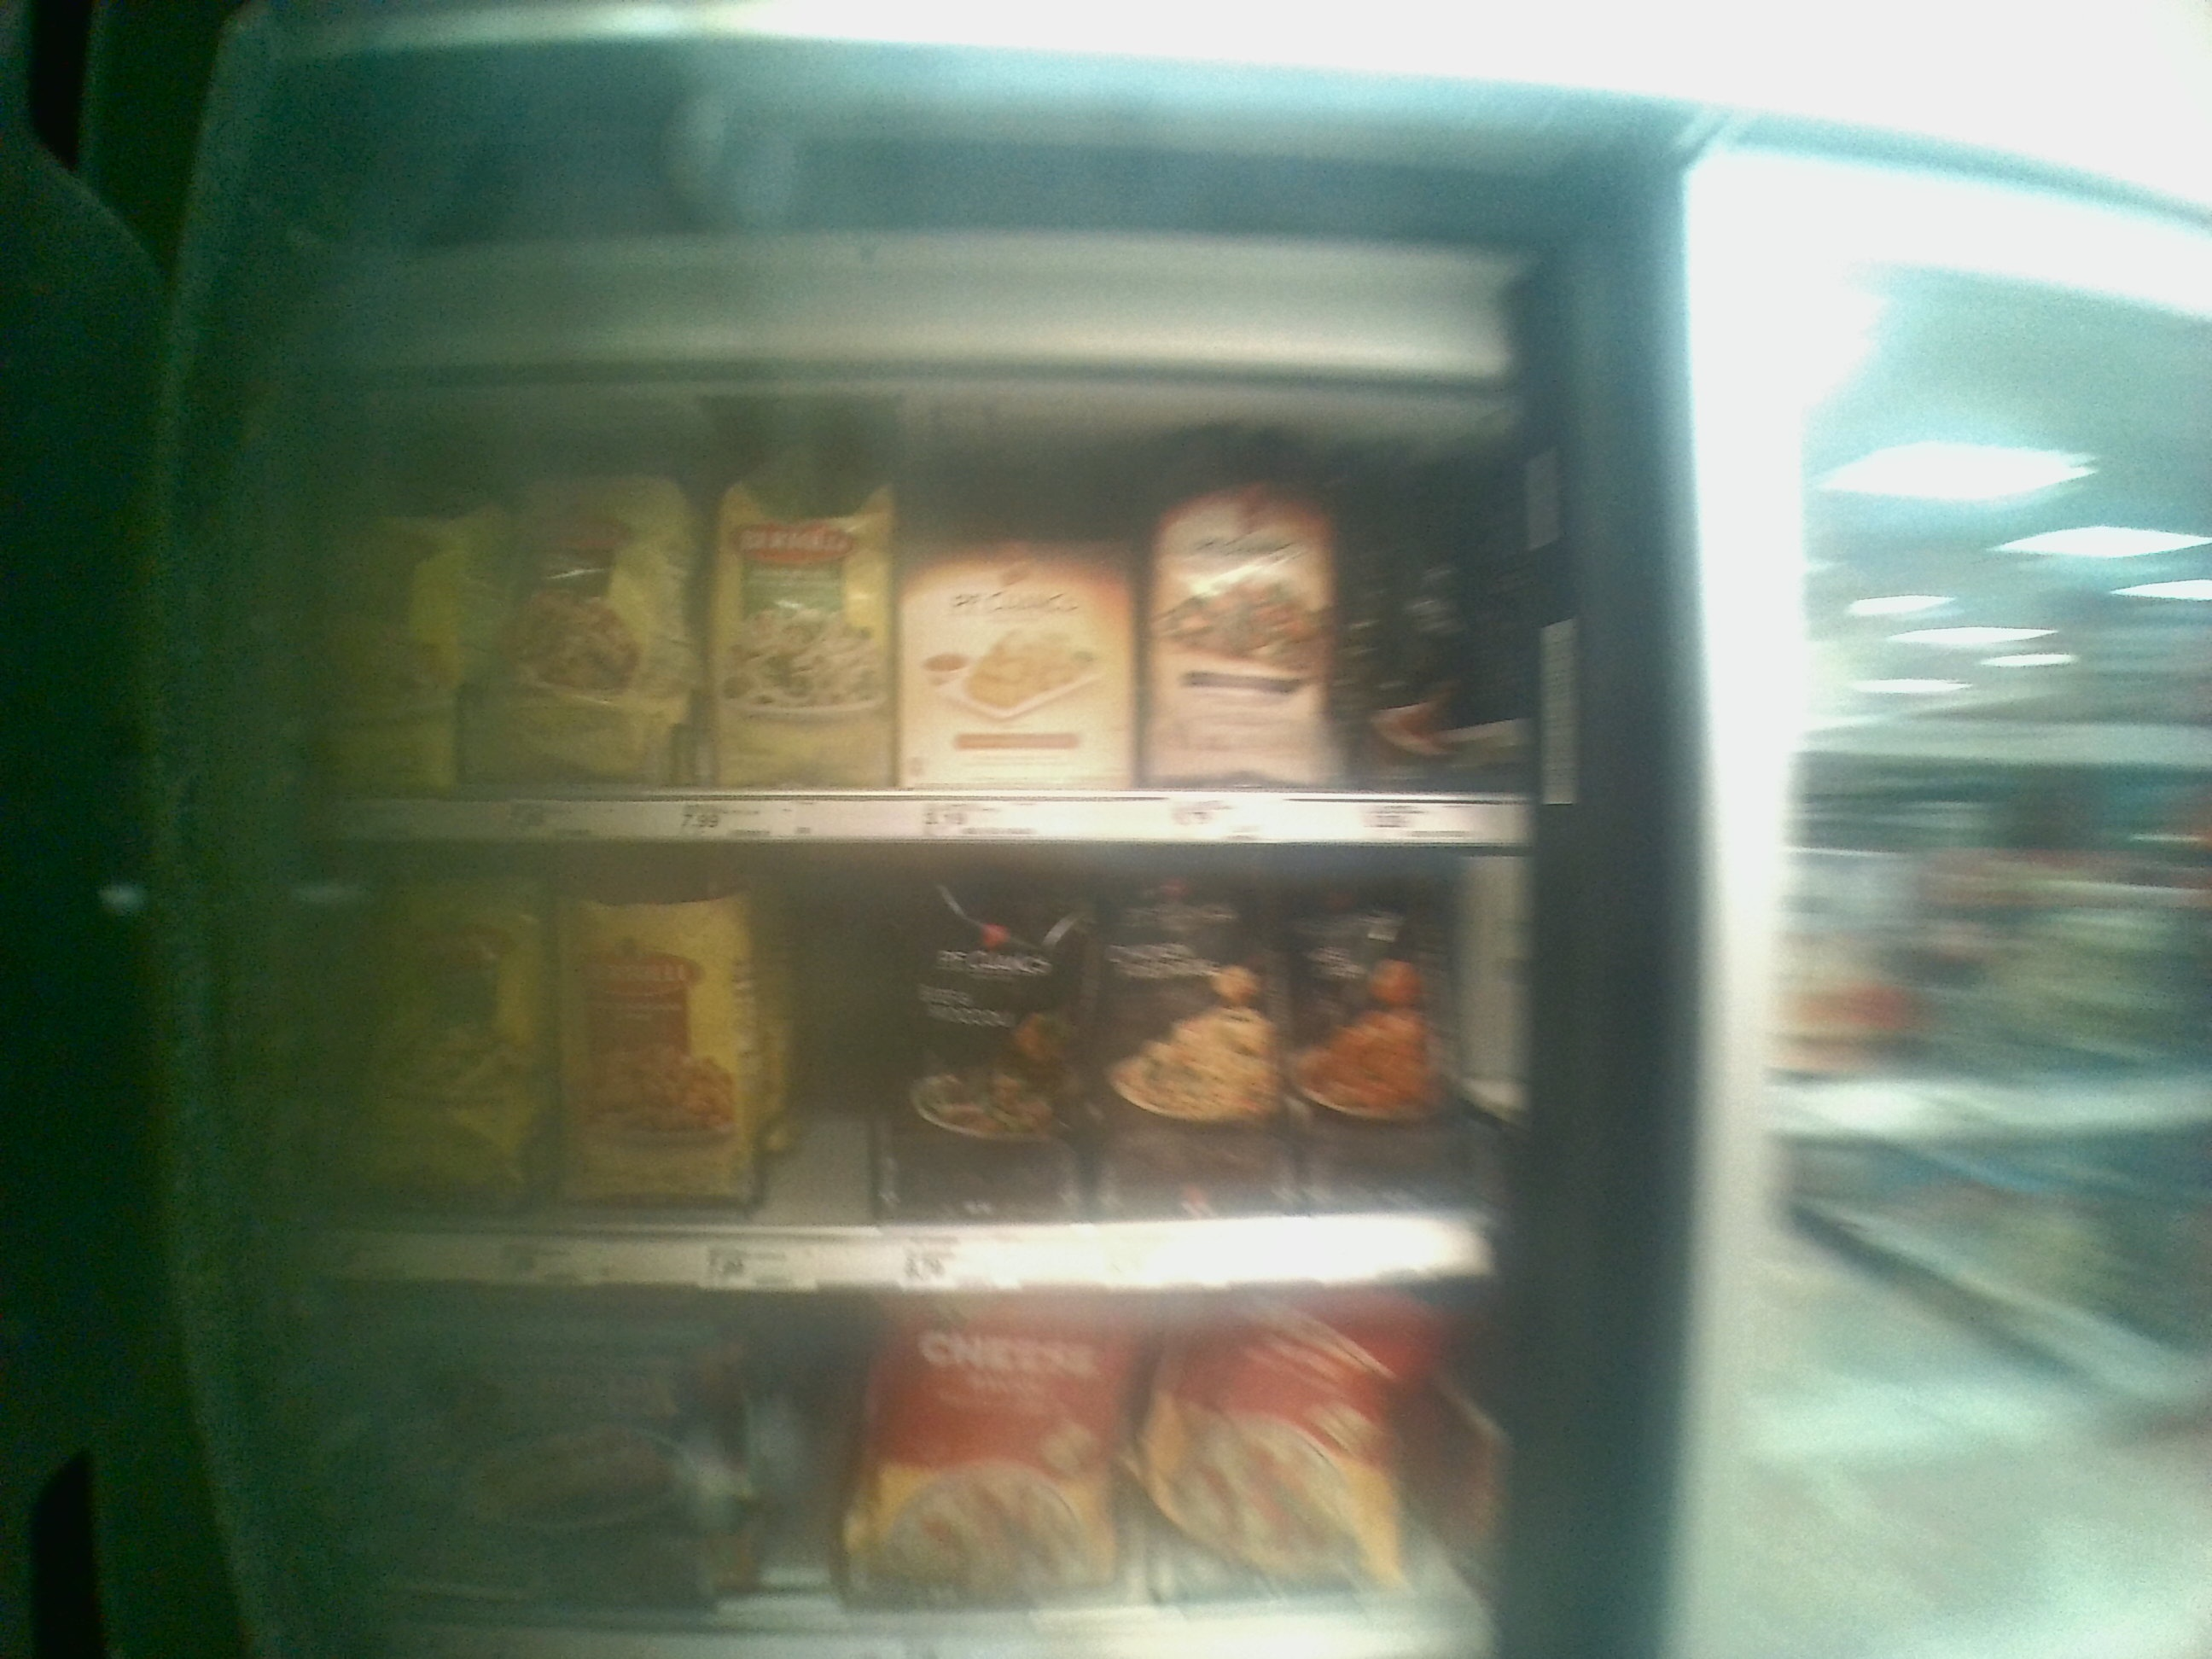shelf: (273, 863, 1500, 1295), (284, 446, 1522, 850)
